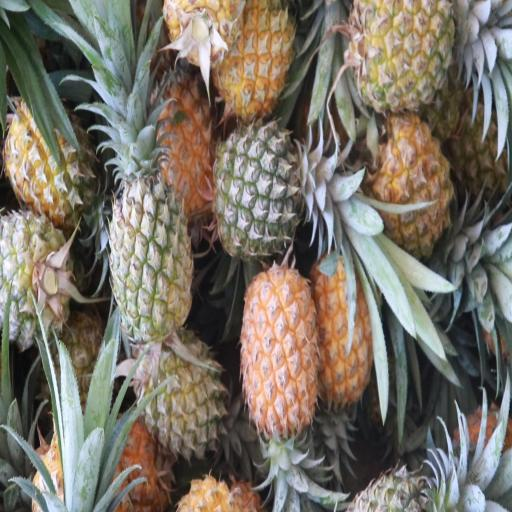------------------------------: (110, 142, 192, 340), (358, 0, 458, 116), (6, 94, 93, 217), (137, 338, 222, 453)
Pineapple - v8 v1: (240, 266, 318, 432), (376, 124, 454, 254), (314, 255, 379, 408), (218, 0, 300, 119), (154, 66, 217, 216)
